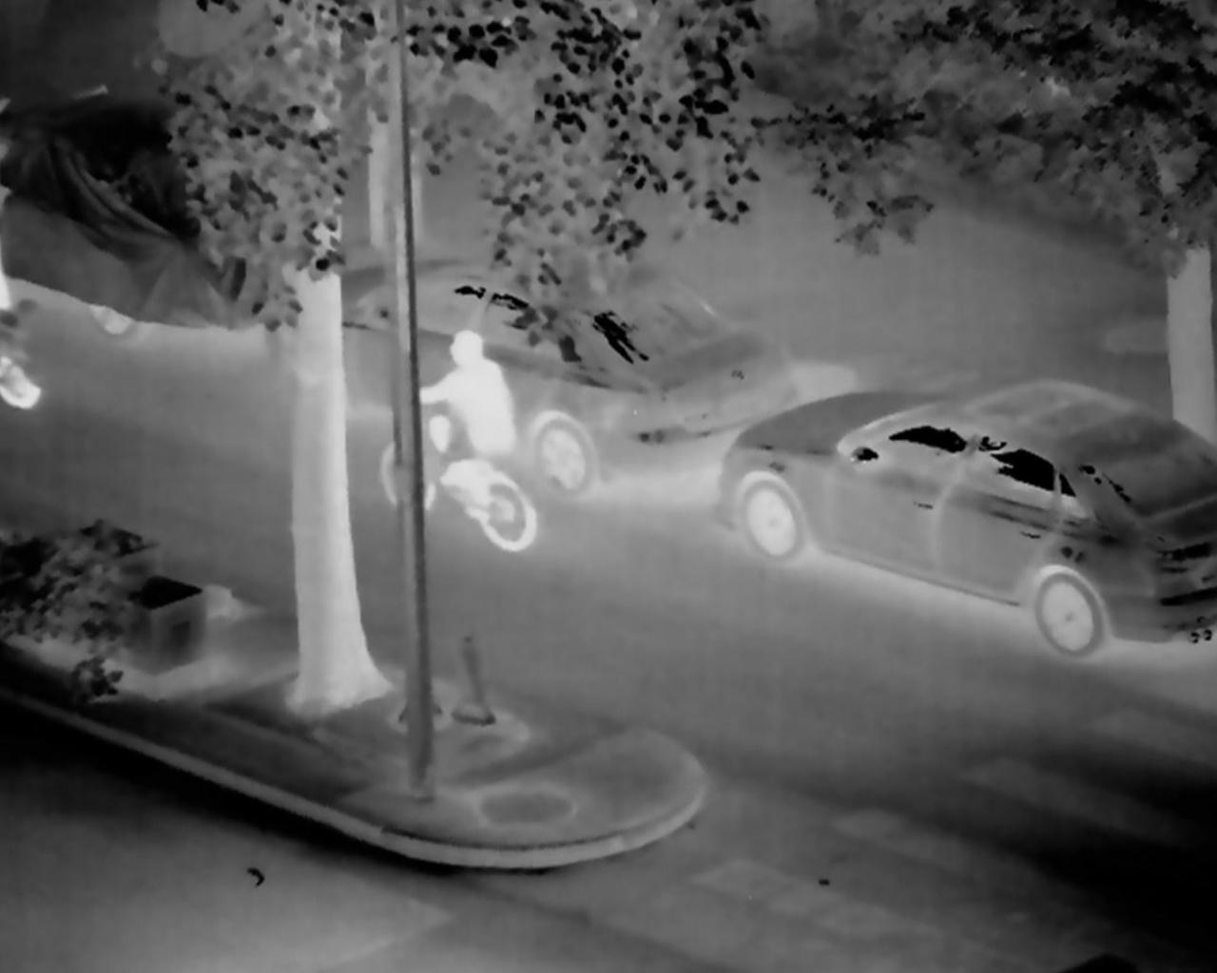person: (388, 315, 547, 543)
